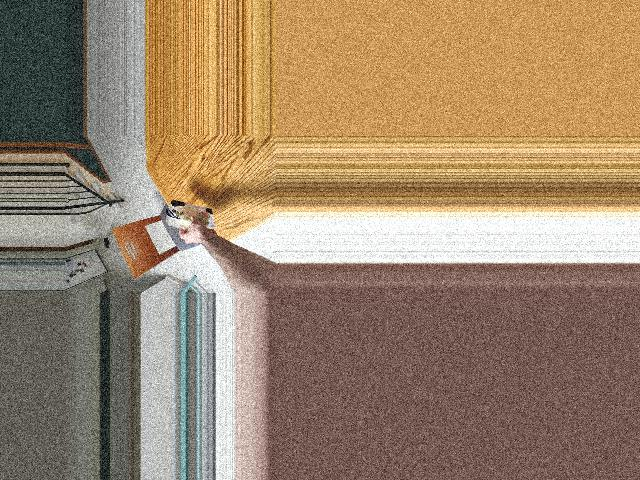cheese: (167, 200, 214, 232)
